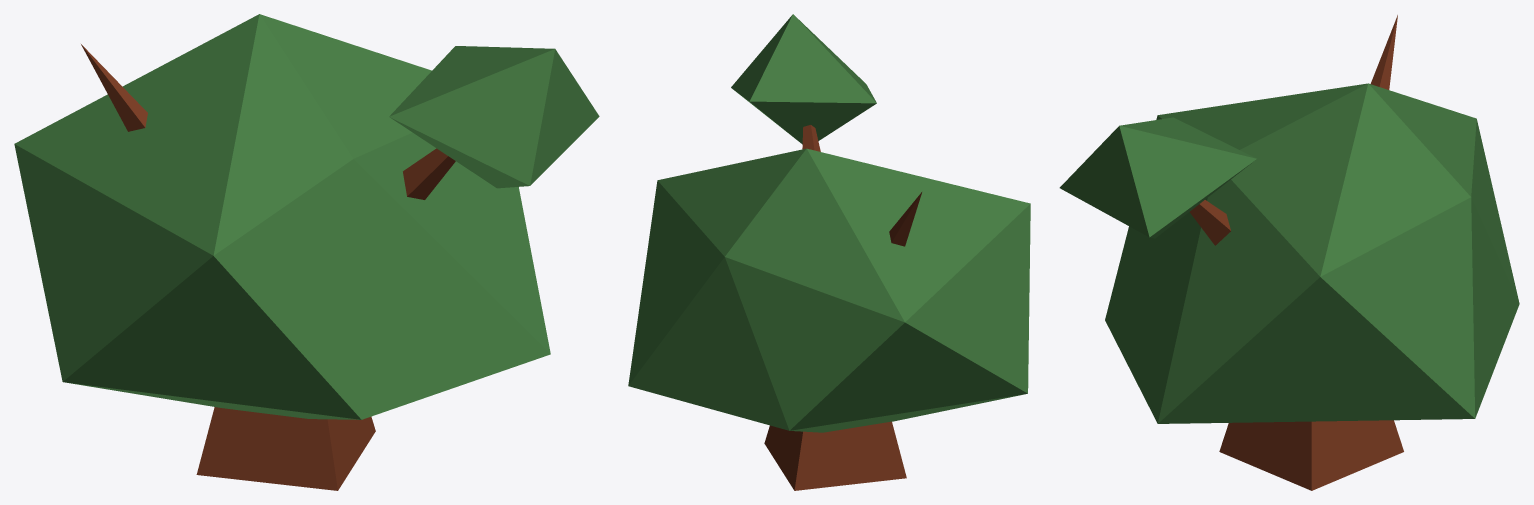
3 views of the same model, side by side, from view 1: azimuth 30°, elevation 25°; view 2: azimuth 150°, elevation 25°; view 3: azimuth 270°, elevation 25° (orthographic). The views are drawn at different scales.
Visible parts, largest first — view 1: Icosphere; view 2: Icosphere; view 3: Icosphere.
Boxes of the visible parts, left/top/right/bottom form: Icosphere: left=14, top=14, right=599, bottom=490; Icosphere: left=628, top=14, right=1030, bottom=490; Icosphere: left=1059, top=15, right=1519, bottom=490.
Bounding box in the file's own units: 3.01 × 2.8 × 2.95.
